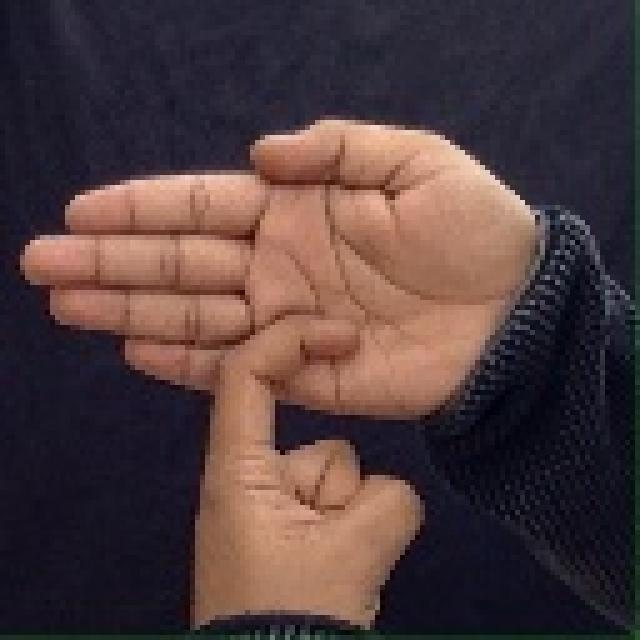R: (15, 119, 552, 599)
